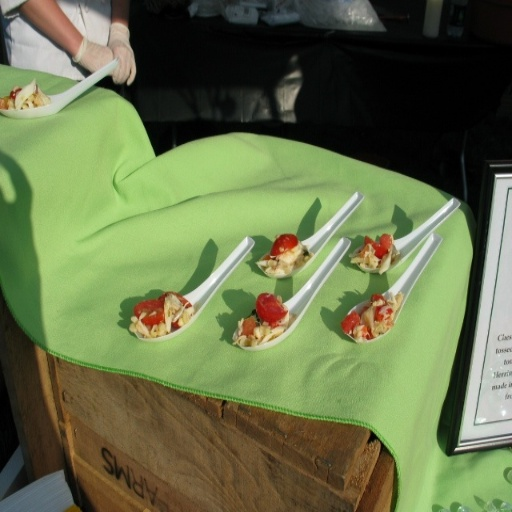hand: (84, 12, 129, 83), (107, 37, 139, 86)
